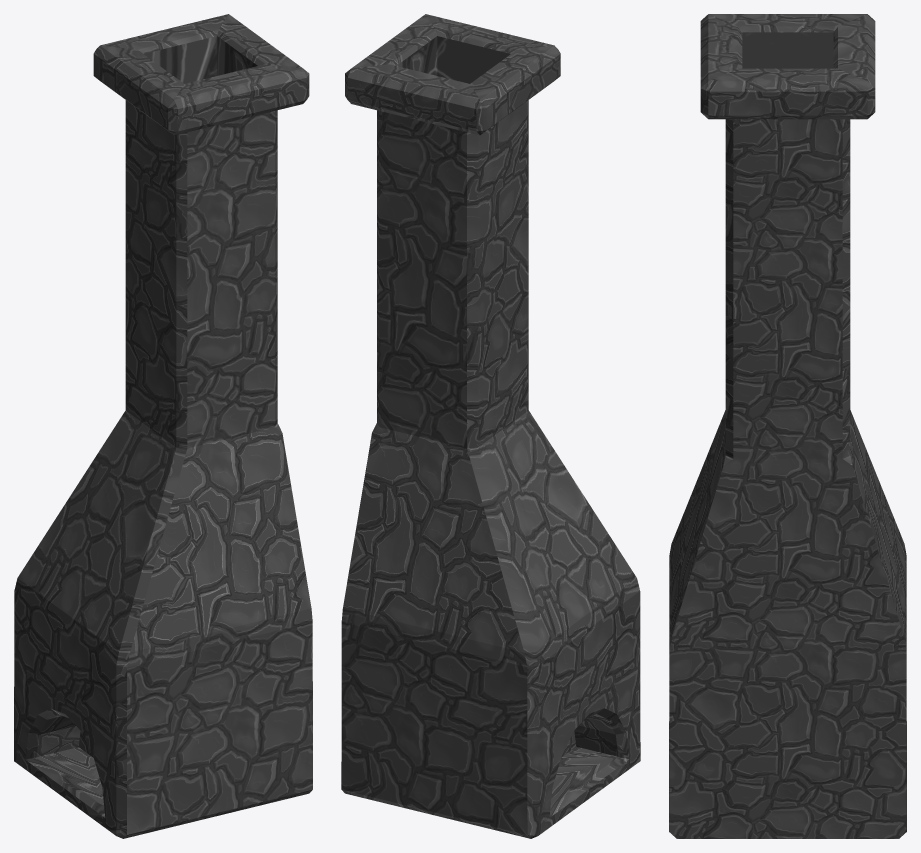
The model's file is Chimney.fbx.
3 views of the same model, side by side, from view 1: azimuth 30°, elevation 25°; view 2: azimuth 150°, elevation 25°; view 3: azimuth 270°, elevation 25° (orthographic). The views are drawn at different scales.
Visible parts, largest first — view 1: Cube.030; view 2: Cube.030; view 3: Cube.030.
Boxes of the visible parts, bbox=[...] form: Cube.030: bbox=[14, 14, 312, 838]; Cube.030: bbox=[341, 14, 640, 838]; Cube.030: bbox=[669, 14, 906, 838].
Bounding box in the file's own units: 2.86 × 9.39 × 2.65.
